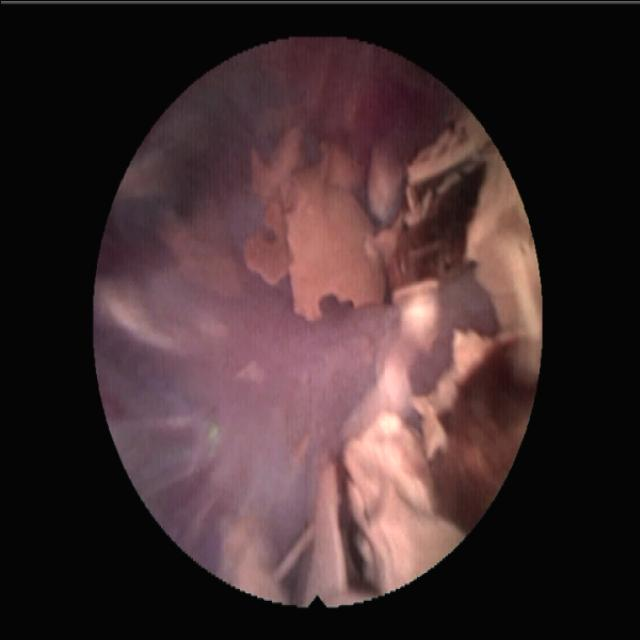stone: (223, 110, 536, 599)
